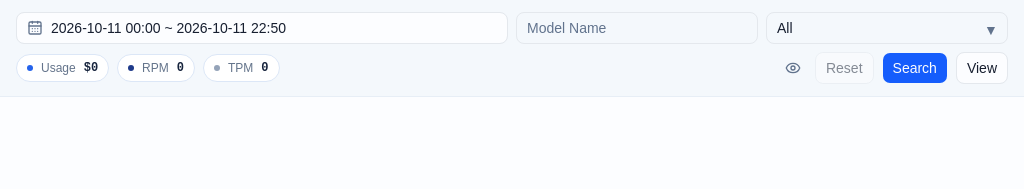
Test: shows a regular user the time range, model, and four results
Expected: the field with placeholder "Model Name" is shown, [516,12,758,44]
Click the dropdown named "Type" at (887, 28), box [766,12,1008,44]
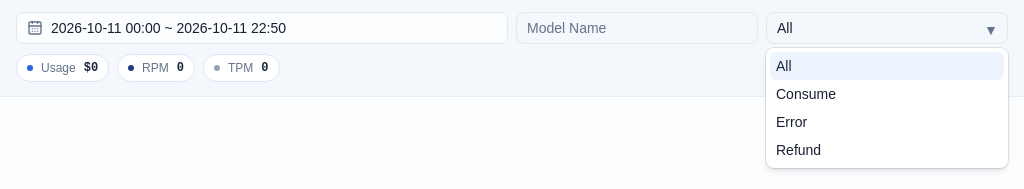
Expected: the option "All" is shown, [770,52,1004,80]
Expected: the option "Consume" is shown, [776,86,836,102]
Expected: the option "Error" is shown, [776,114,807,130]
